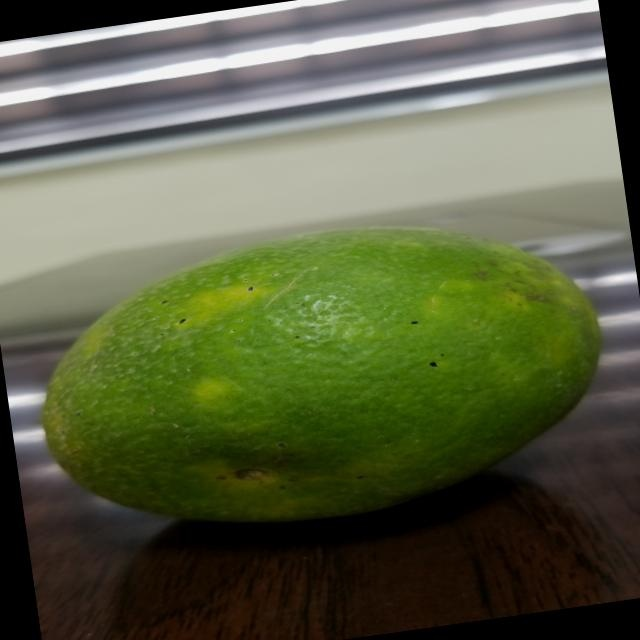agrume: (0, 174, 630, 571)
